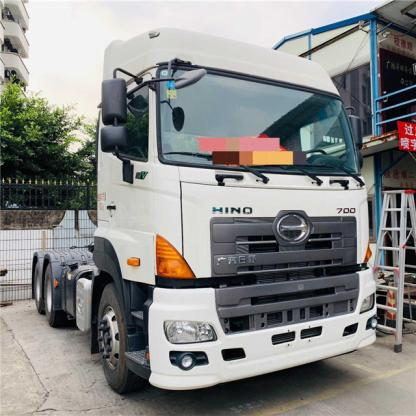dump_truck: (22, 24, 384, 412)
